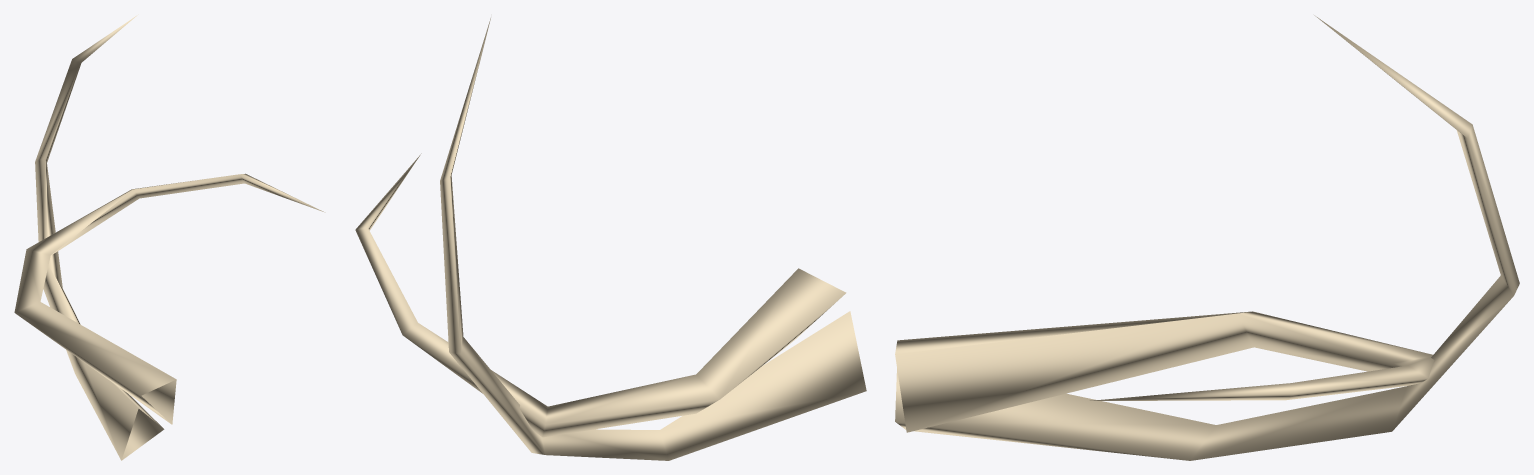
3 views of the same model, side by side, from view 1: azimuth 30°, elevation 25°; view 2: azimuth 150°, elevation 25°; view 3: azimuth 270°, elevation 25° (orthographic). The views are drawn at different scales.
Visible parts, largest first — view 1: Object100; view 2: Object100; view 3: Object100.
Part boxes in pixels (x1=…): Object100: x1=14, y1=14, x2=325, y2=460; Object100: x1=355, y1=18, x2=866, y2=460; Object100: x1=895, y1=15, x2=1519, y2=460.
Size of the model in its own units: 7074 by 8331 by 8904.
